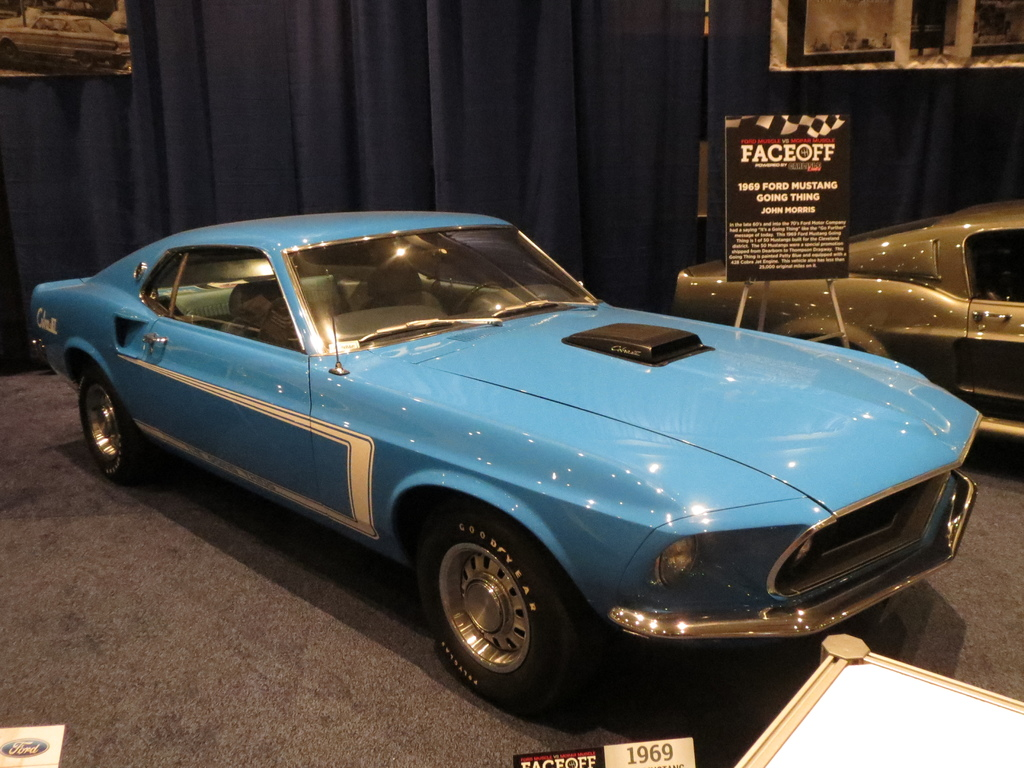Car: (28, 208, 984, 710), (670, 198, 1023, 442)
